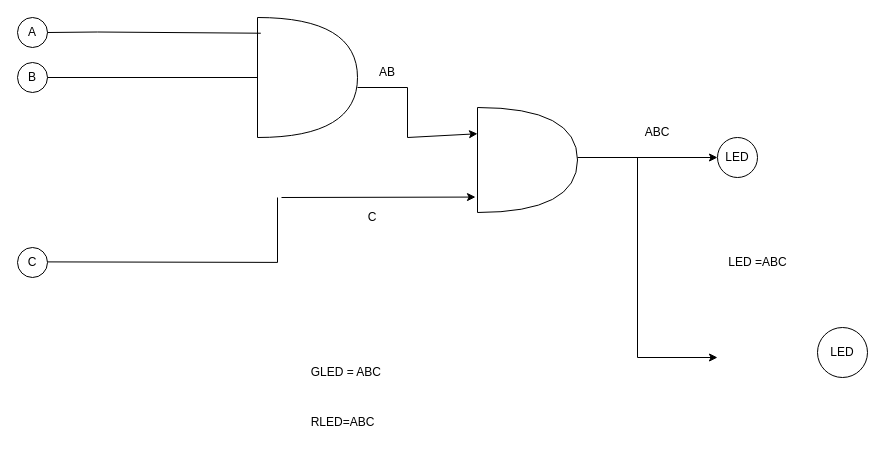
Image size: 885x455. Some labels were removed from this diagram. The centre of each missing label's shape, as x and y in pixels:
"G1" goes at point (307, 77).
"G2" goes at point (527, 159).
